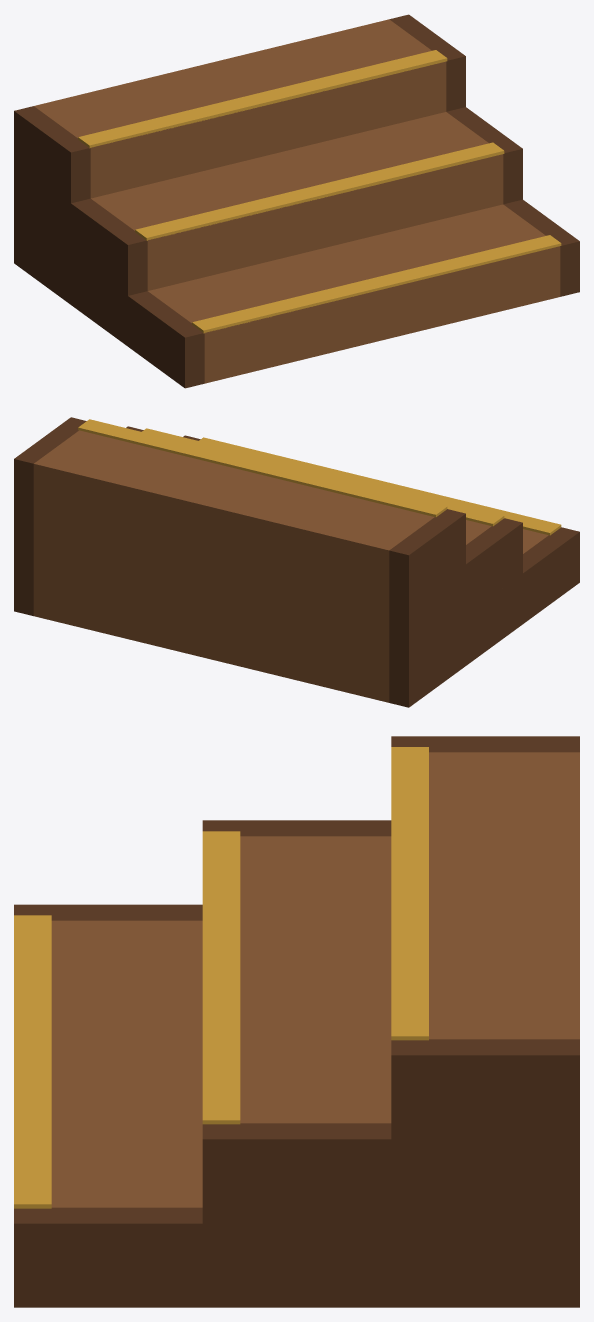
File: LobbySteps.fbx
The picture shows the model from 3 angles, top to bottom: view 1: azimuth 30°, elevation 25°; view 2: azimuth 150°, elevation 25°; view 3: azimuth 270°, elevation 25°; orthographic projection. The views are drawn at different scales.
Parts seen in each view (by area): view 1: LobbySteps; view 2: LobbySteps; view 3: LobbySteps.
Part boxes in pixels (x1,y1,x2,y2): LobbySteps: (14,14,579,388); LobbySteps: (14,417,579,707); LobbySteps: (14,736,579,1307).
Size of the model in its own units: 8 by 3 by 6.
